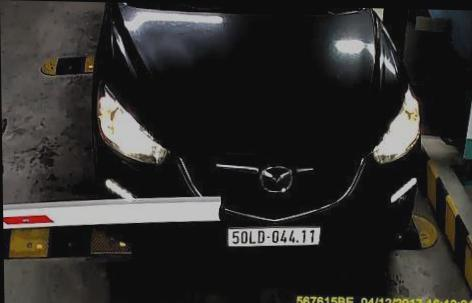License_Plate: (225, 219, 324, 253)
